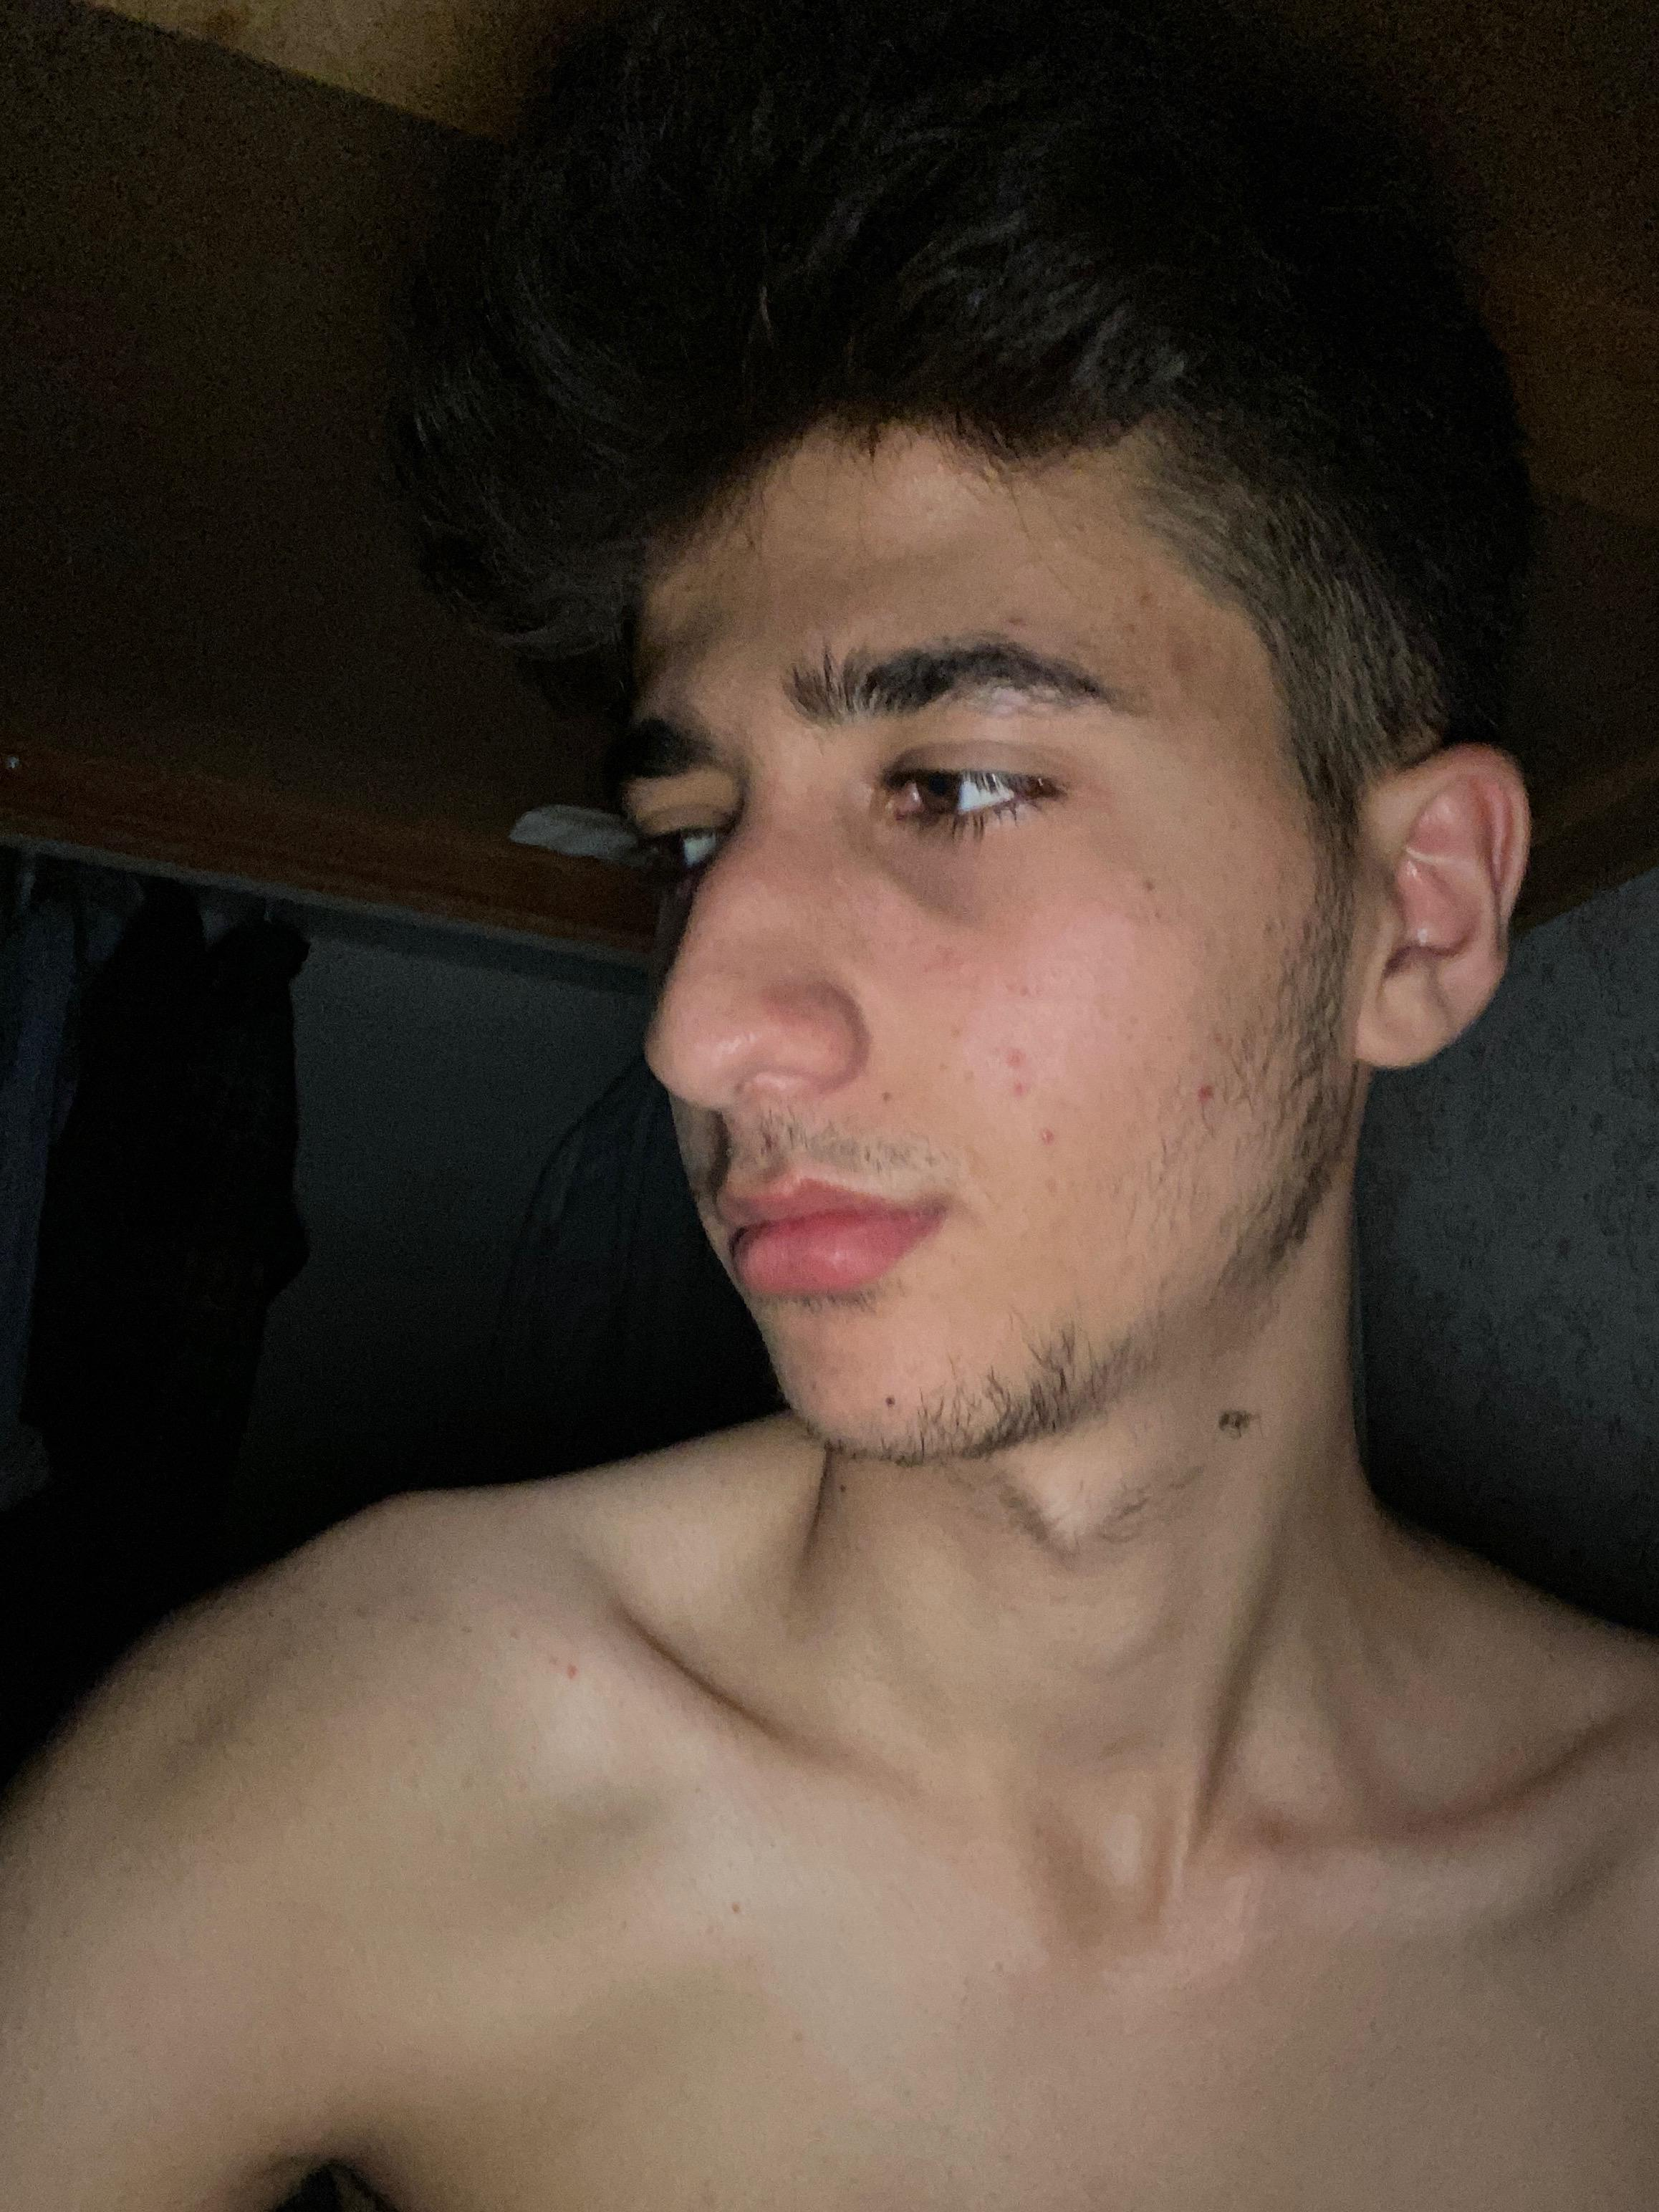Acne: (1133, 860, 1201, 935), (925, 941, 979, 996), (1180, 1069, 1236, 1108), (997, 1043, 1040, 1090), (1194, 1017, 1241, 1059), (1164, 646, 1209, 688), (1007, 1115, 1061, 1148), (934, 1054, 983, 1090), (878, 1076, 911, 1115), (1002, 974, 1042, 1001), (936, 1008, 965, 1043), (993, 608, 1028, 637), (1138, 587, 1169, 617), (878, 1392, 906, 1413)
Eyebags: (854, 831, 1126, 935)
